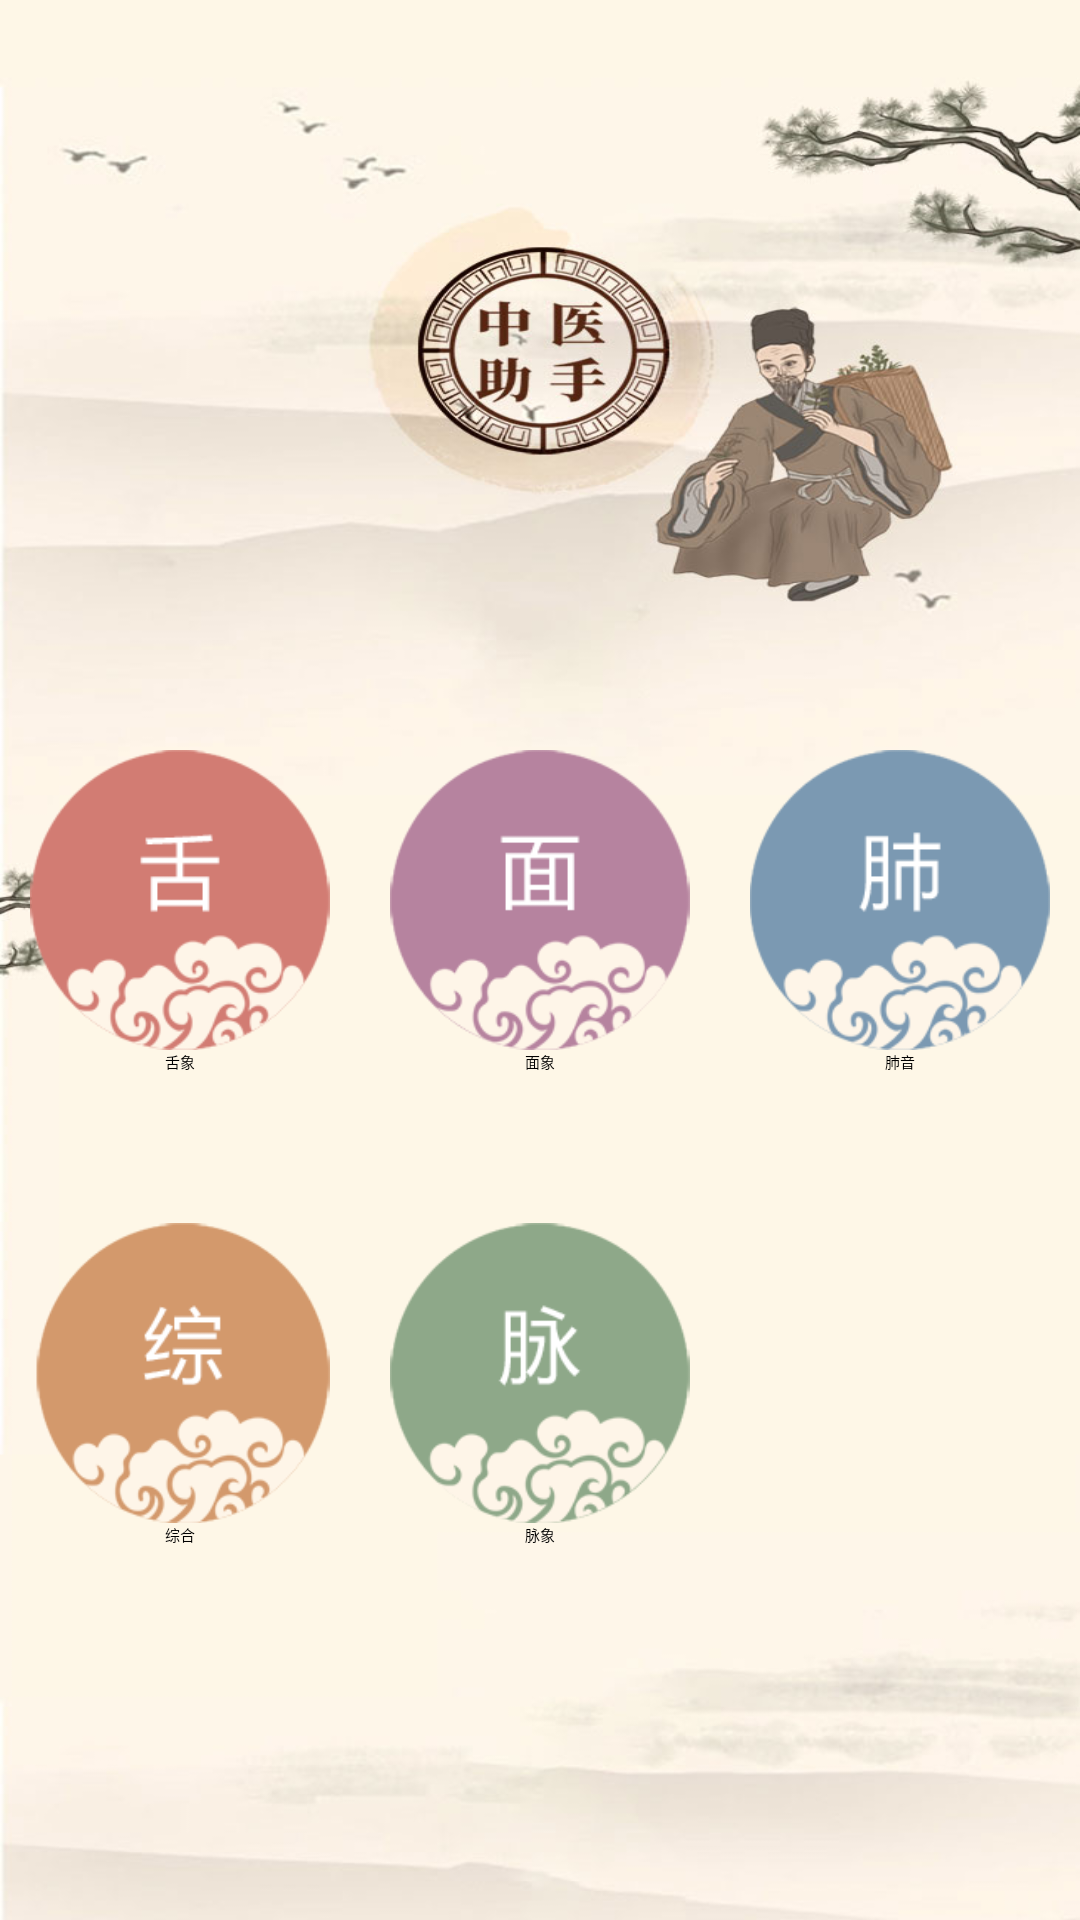

Where icons sit on this 1080 x 1920 app screen, as bbox(x1, y1, x2, y2):
diagnosis: bbox(36, 1223, 330, 1523)
